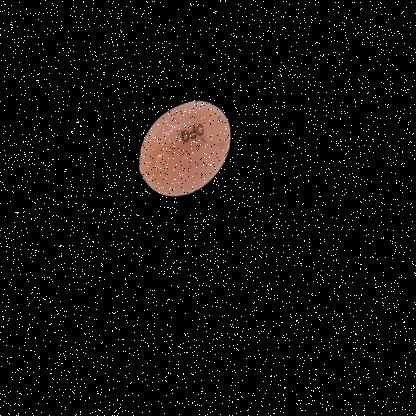opiqutan: (122, 64, 262, 219)
